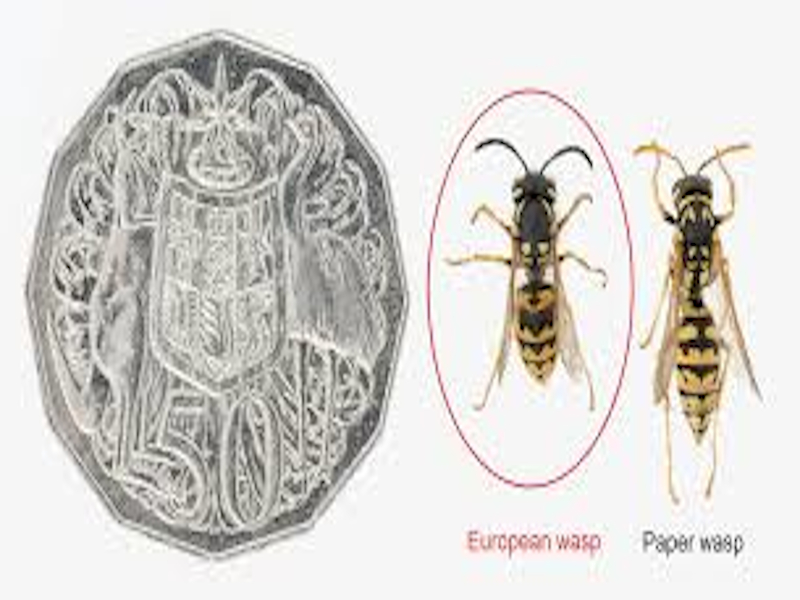chax: (626, 127, 772, 504), (456, 136, 616, 410)
